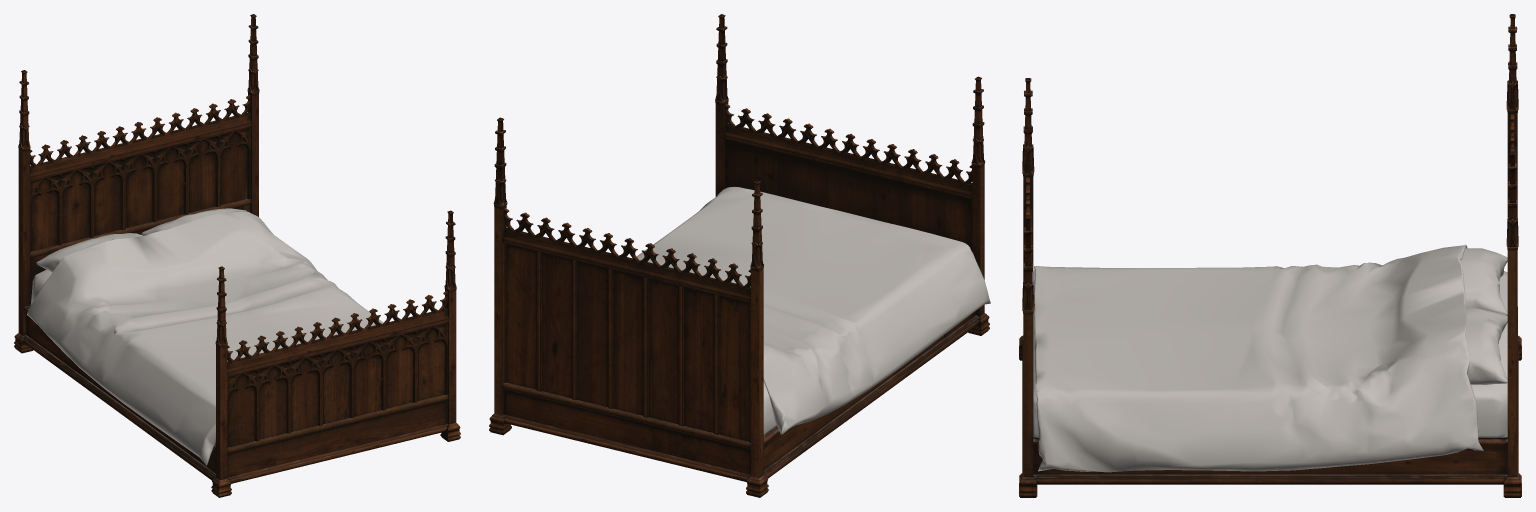
Rendered from GothicBed_01_2k.gltf.
3 views of the same model, side by side, from view 1: azimuth 30°, elevation 25°; view 2: azimuth 150°, elevation 25°; view 3: azimuth 270°, elevation 25° (orthographic). The views are drawn at different scales.
Parts seen in each view (by area): view 1: GothicBed_01; view 2: GothicBed_01; view 3: GothicBed_01.
Boxes of the visible parts, <box> form: GothicBed_01: <box>14,14,460,497</box>; GothicBed_01: <box>489,14,990,497</box>; GothicBed_01: <box>1019,14,1521,497</box>.
Size of the model in its own units: 1.49 by 1.53 by 2.04.
Materials: 1 (1 with a texture image).
